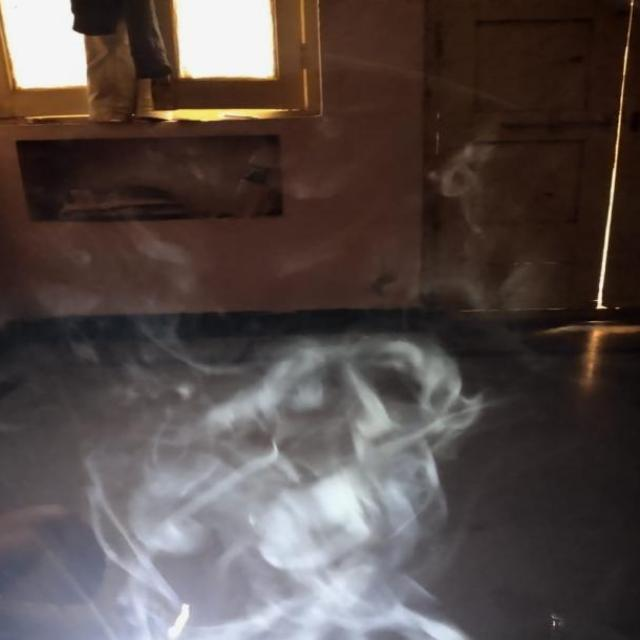fire: (92, 325, 504, 640)
